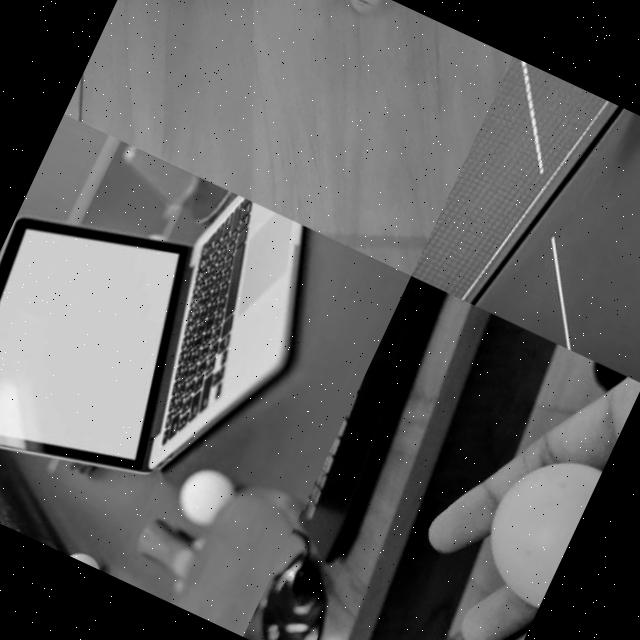ping-pong-ball: (464, 434, 603, 606), (163, 458, 241, 536), (66, 545, 108, 572), (341, 0, 380, 18)
